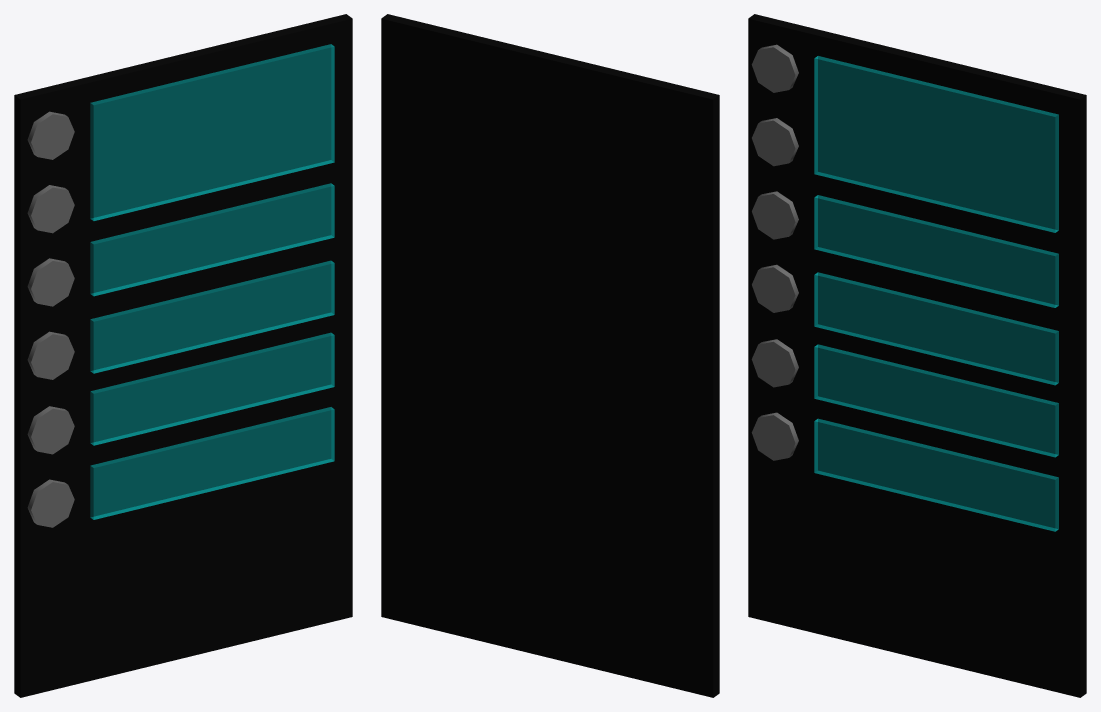
File: control.obj
3 views of the same model, side by side, from view 1: azimuth 30°, elevation 25°; view 2: azimuth 150°, elevation 25°; view 3: azimuth 330°, elevation 25° (orthographic).
Parts seen in each view (by area): view 1: object_1, object_12, object_11, object_8, object_9, object_10, object_2, object_3, object_5, object_4, object_6, object_7; view 2: object_1; view 3: object_1, object_12, object_11, object_8, object_9, object_10, object_4, object_7, object_2, object_3, object_5, object_6.
Boxes of the visible parts, box(x1,y1,x2,y2) form: object_1: box(14, 14, 352, 697); object_12: box(90, 44, 334, 220); object_11: box(90, 183, 334, 296); object_8: box(90, 407, 334, 519); object_9: box(90, 333, 334, 445); object_10: box(90, 261, 334, 373); object_2: box(27, 111, 74, 159); object_3: box(27, 185, 74, 233); object_5: box(27, 331, 74, 379); object_4: box(27, 258, 74, 306); object_6: box(27, 406, 74, 454); object_7: box(27, 479, 74, 527); object_1: box(381, 14, 719, 697); object_1: box(748, 14, 1086, 697); object_12: box(814, 56, 1058, 232); object_11: box(814, 195, 1058, 307); object_8: box(814, 419, 1058, 531); object_9: box(814, 344, 1058, 457); object_10: box(814, 272, 1058, 385); object_4: box(752, 191, 798, 239); object_7: box(751, 412, 798, 460); object_2: box(751, 44, 798, 92); object_3: box(752, 118, 798, 166); object_5: box(752, 264, 798, 312); object_6: box(751, 339, 798, 387).
Size of the model in its own units: 3.79 by 6.53 by 0.1939.
